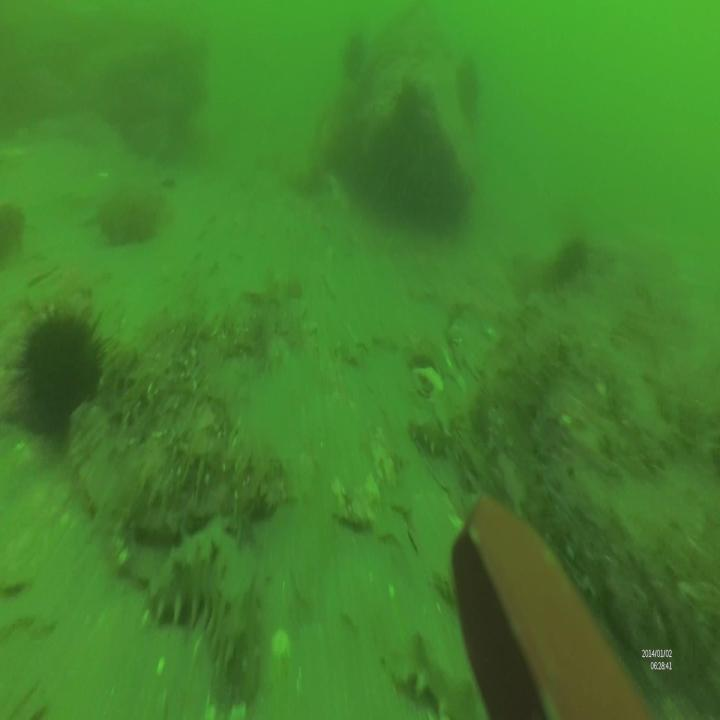echinus: (10, 297, 102, 441), (552, 229, 589, 282), (455, 53, 488, 110), (339, 29, 369, 80)
holothurian: (148, 539, 262, 716)
